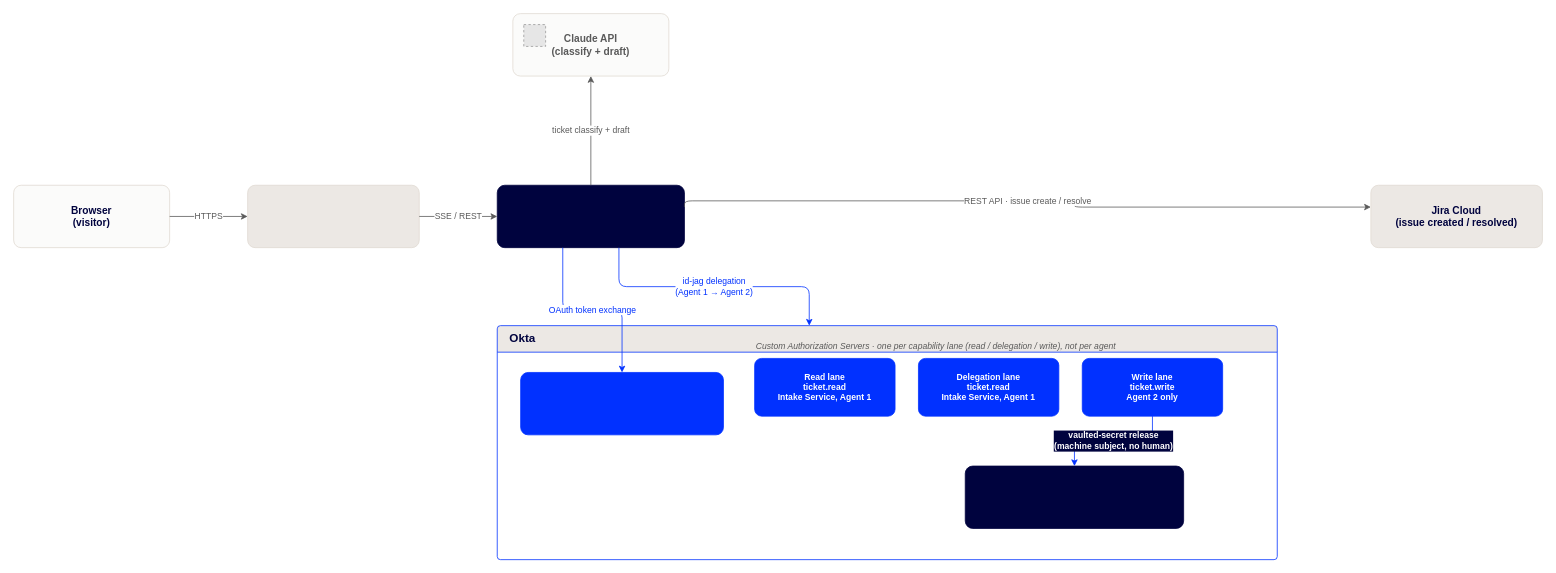
Image size: 1556x573. Some labels were removed from this diagram. Grey dashed boxes stand in for pictures. Each missing label, with the centre of its shape:
"FastAPI orchestrator (Render)" belongs at pixel 590 216.
"Next.js frontend (Vercel)" belongs at pixel 333 216.
"Okta Privileged Access (vaulted Jira credential · released to Agent 2 only)" belongs at pixel 1074 496.
"Org Authorization Server (/oauth2/v1/token)" belongs at pixel 621 403.
